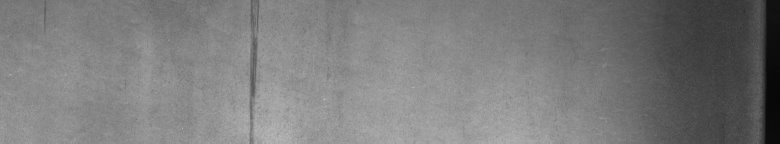hd: (244, 4, 264, 136)
